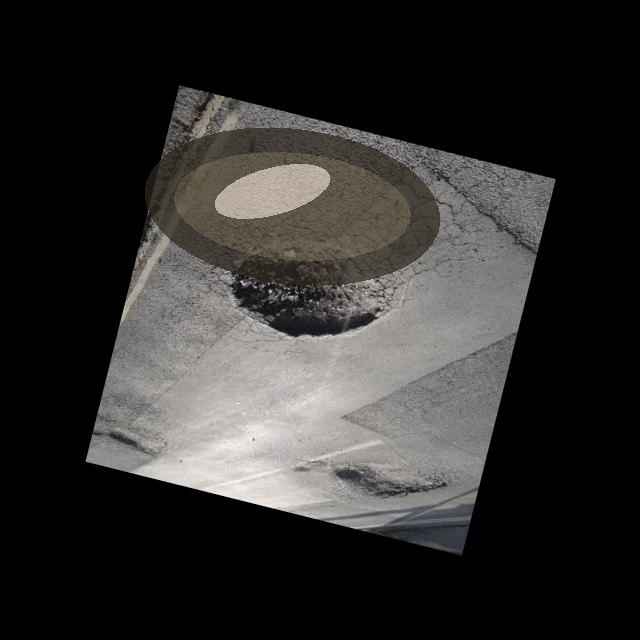waterlogging: (134, 119, 450, 293)
